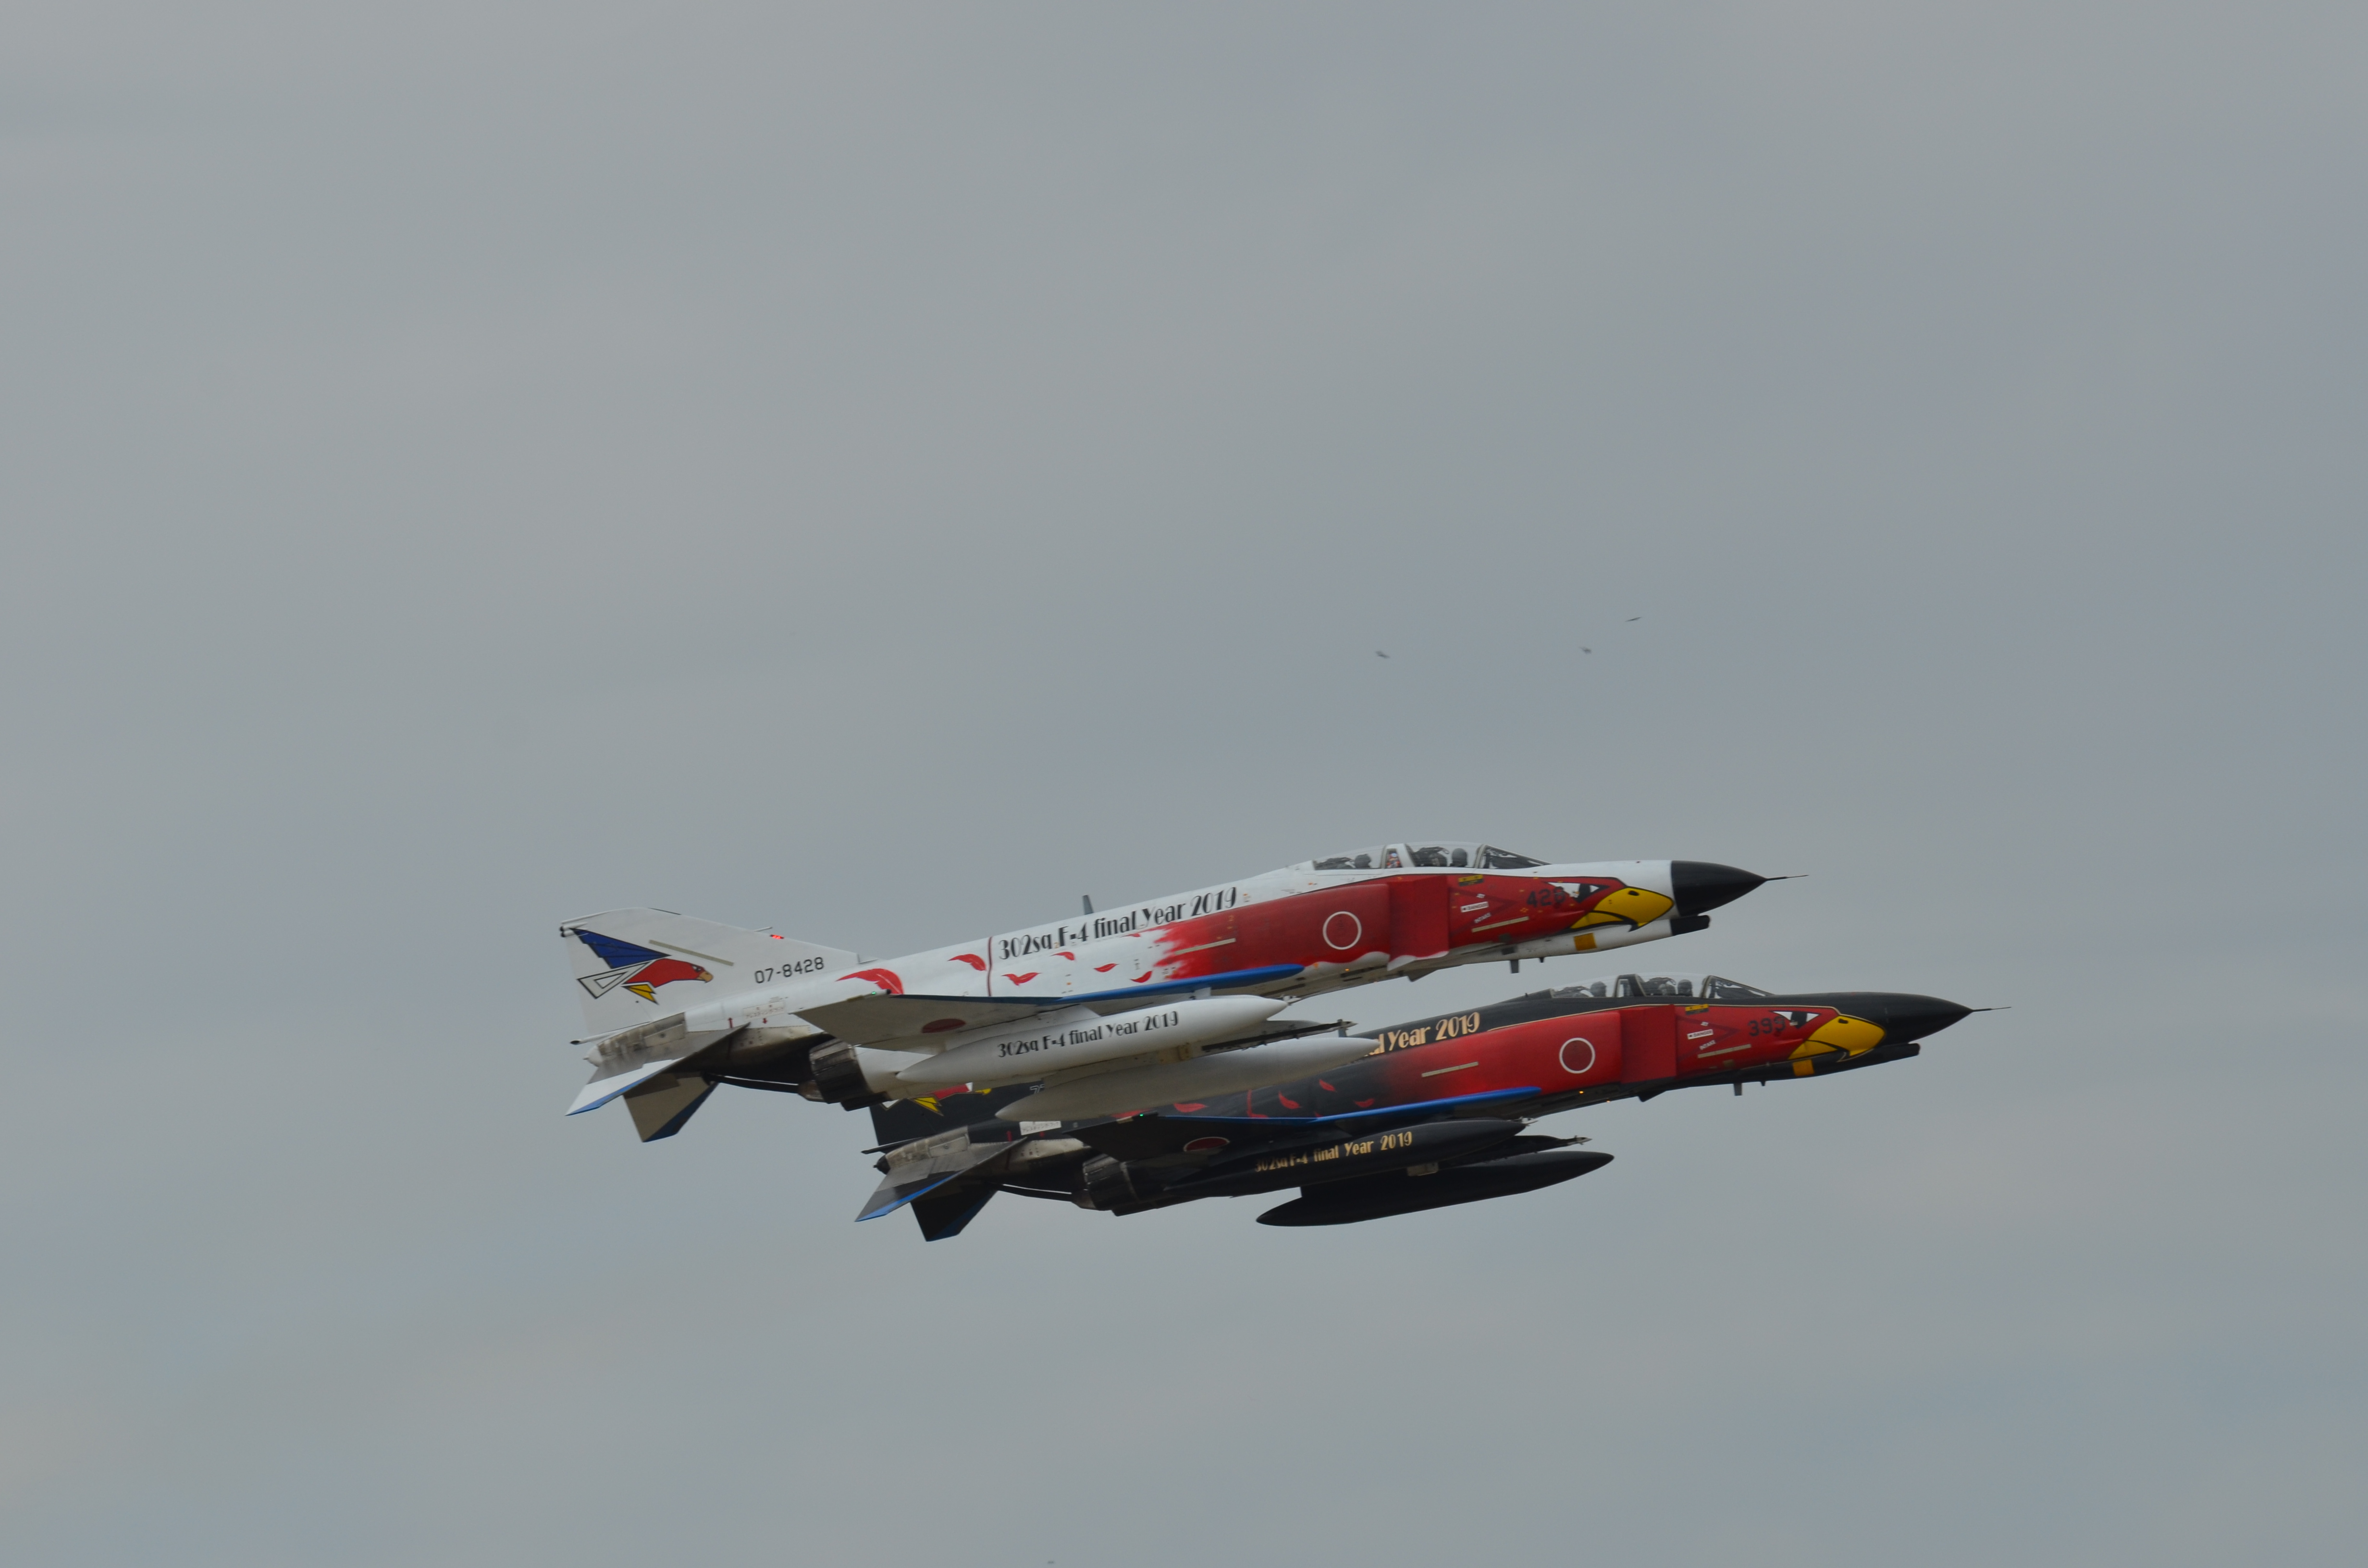F4: (558, 840, 1810, 1143), (852, 971, 2013, 1242)
